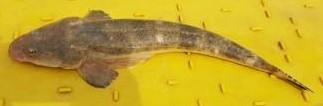fish: (8, 10, 317, 104)
